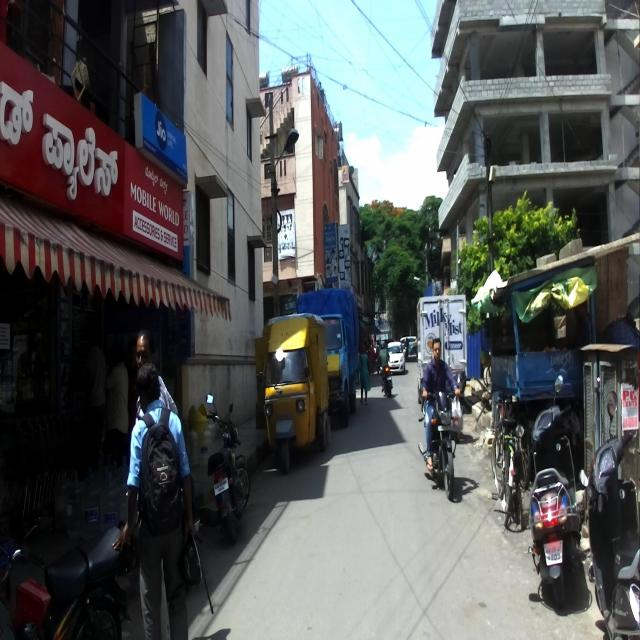autorickshaw: (257, 311, 330, 476)
motorcycle: (0, 513, 132, 638), (203, 389, 251, 546), (417, 390, 460, 502)
scooter: (514, 374, 584, 608), (578, 389, 638, 639)
